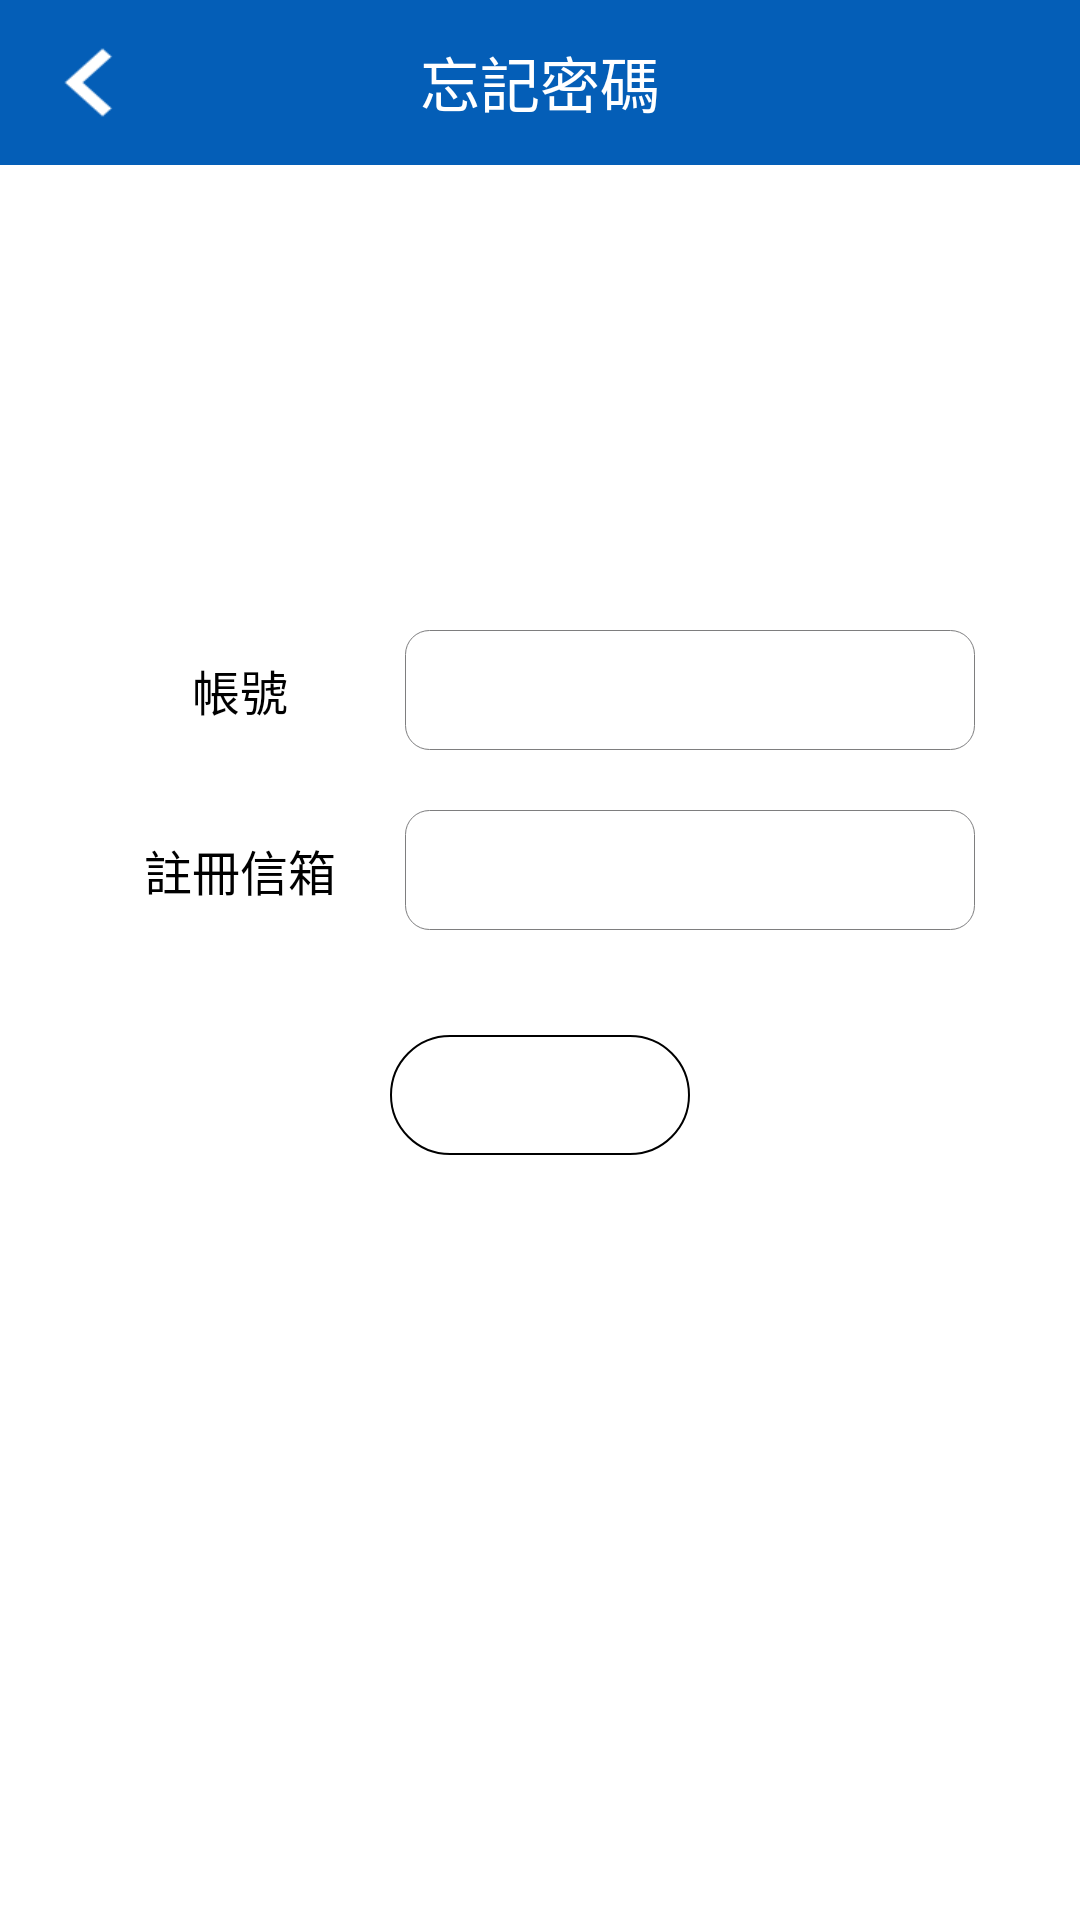

Icons on this 1080×1920 Android screen, each with its box as bbox=(x1, y1, x2, y2):
chevron left: bbox=(65, 48, 112, 117)
